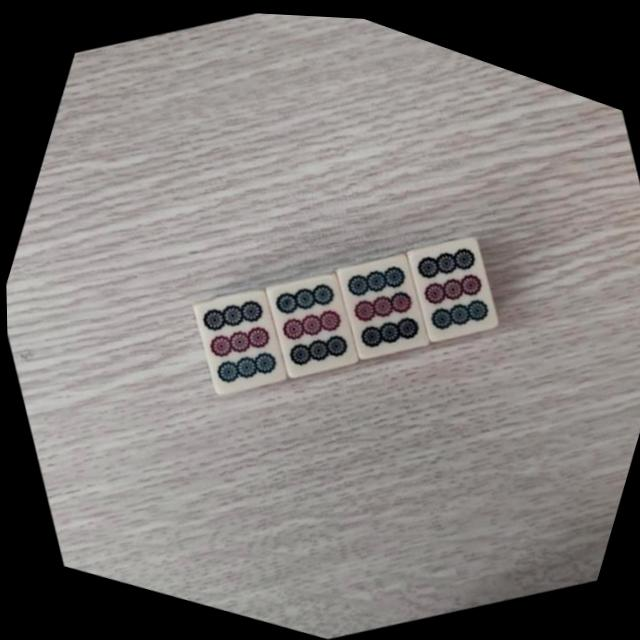sd9: (315, 238, 440, 375), (244, 258, 369, 394), (173, 274, 297, 410), (385, 222, 509, 357)
